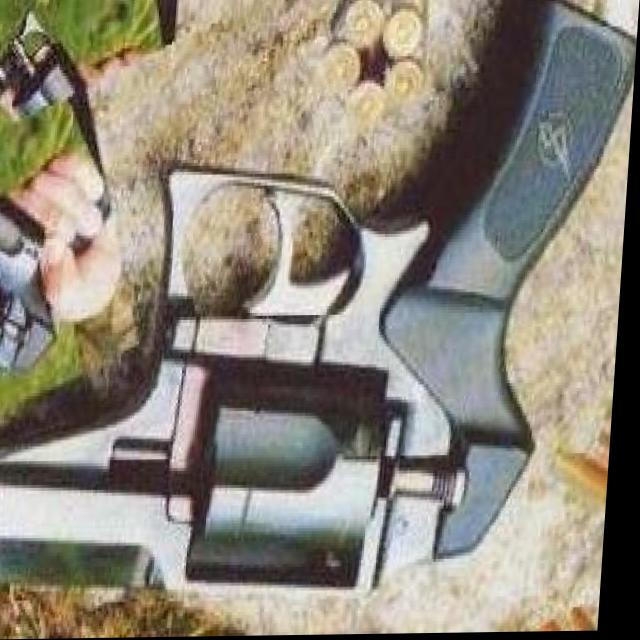handgun: (0, 7, 639, 610)
